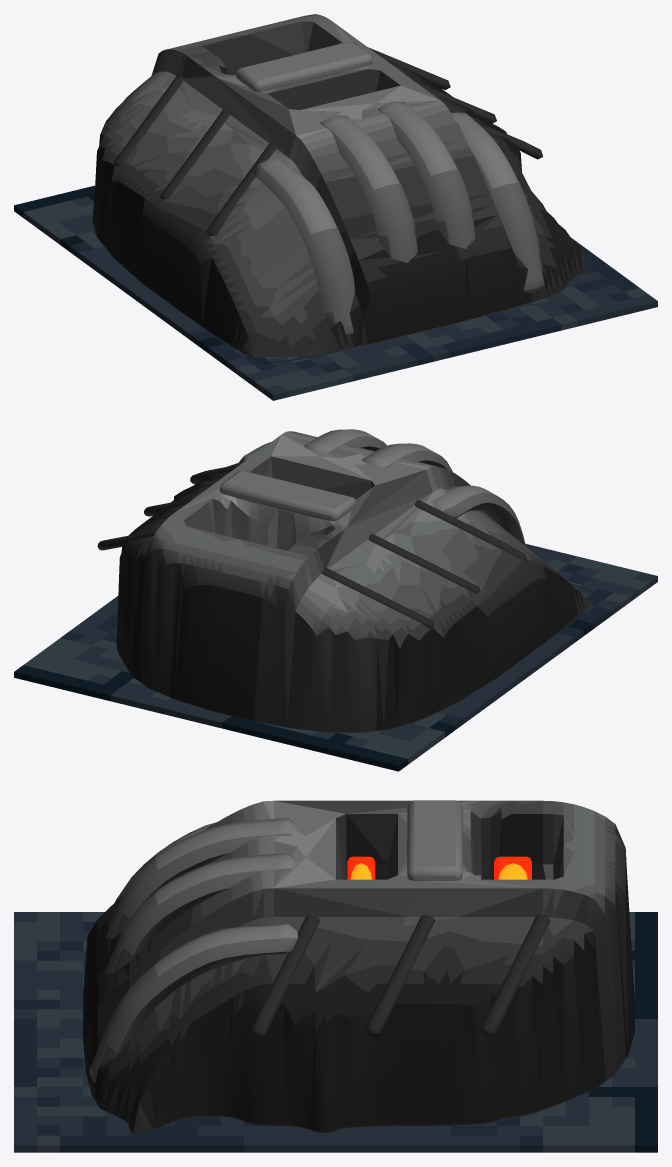
File: slit_bunker.glb
The picture shows the model from 3 angles, top to bottom: view 1: azimuth 30°, elevation 25°; view 2: azimuth 150°, elevation 25°; view 3: azimuth 270°, elevation 25°; orthographic projection. The views are drawn at different scales.
Visible parts, largest first — view 1: body, tiles, toe0, toe2, toe1, toe3, band, tier-10, tier-11, tier-12; view 2: body, tiles, band, toe0, toe1, toe2, tier-10, tier-11, tier-12; view 3: body, tiles, toe3, toe2, toe1, band, tier10, tier11, tier12, slit_glow0.
Part boxes in pixels (bbox=[...]): body: bbox=[92, 14, 589, 363]; tiles: bbox=[14, 185, 657, 400]; toe0: bbox=[253, 158, 354, 334]; toe2: bbox=[378, 101, 475, 248]; toe1: bbox=[320, 115, 417, 262]; toe3: bbox=[451, 112, 544, 293]; band: bbox=[236, 41, 372, 91]; tier-10: bbox=[113, 75, 183, 166]; tier-11: bbox=[160, 109, 229, 199]; tier-12: bbox=[206, 143, 276, 235]; body: bbox=[116, 431, 596, 732]; tiles: bbox=[14, 543, 657, 771]; band: bbox=[220, 470, 356, 520]; toe0: bbox=[433, 485, 525, 546]; toe1: bbox=[362, 443, 452, 471]; toe2: bbox=[304, 429, 386, 452]; tier-10: bbox=[322, 567, 433, 628]; tier-11: bbox=[368, 533, 479, 593]; tier-12: bbox=[415, 499, 526, 559]; body: bbox=[83, 800, 634, 1133]; tiles: bbox=[14, 912, 657, 1152]; toe3: bbox=[89, 924, 297, 1082]; toe2: bbox=[106, 853, 297, 973]; toe1: bbox=[106, 818, 297, 938]; band: bbox=[407, 800, 462, 880]; tier10: bbox=[480, 915, 550, 1036]; tier11: bbox=[365, 915, 435, 1036]; tier12: bbox=[250, 915, 320, 1038]; slit_glow0: bbox=[494, 856, 531, 879].
Size of the model in its own units: 24 by 10.1 by 28.
